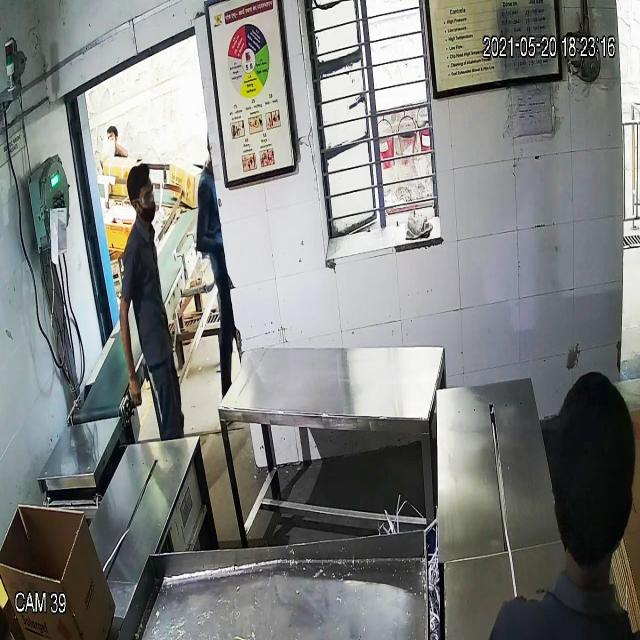glasses: (128, 186, 160, 212)
